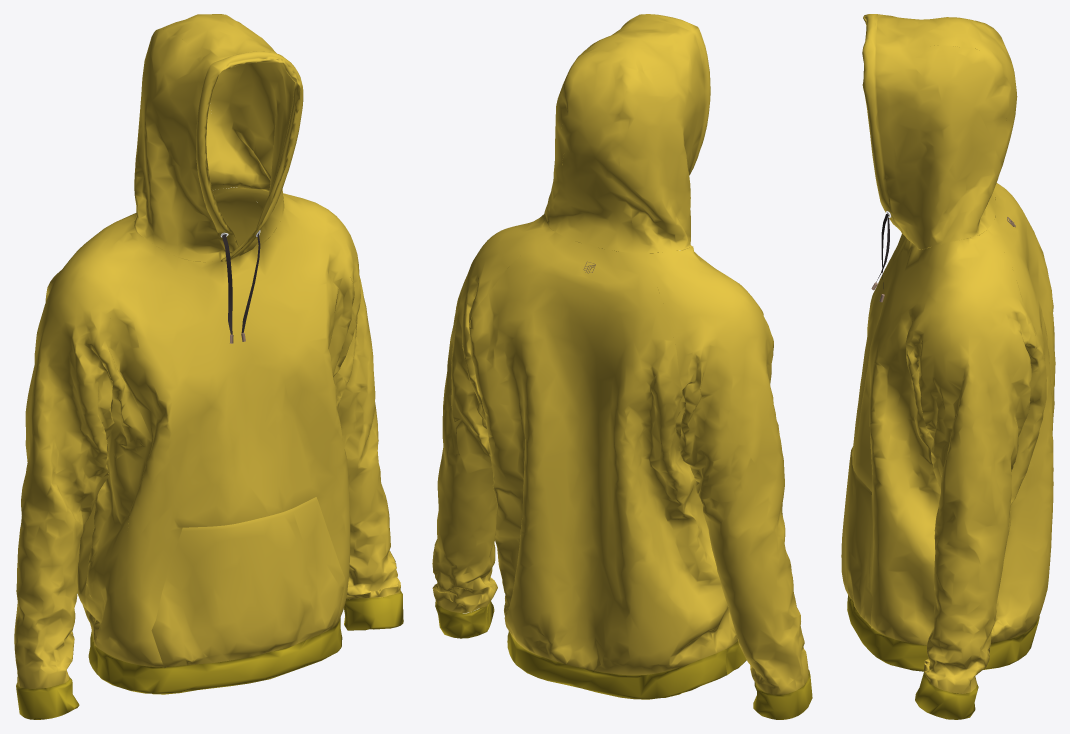
File: sweat.glb
The picture shows the model from 3 angles, left to right: view 1: azimuth 30°, elevation 25°; view 2: azimuth 150°, elevation 25°; view 3: azimuth 270°, elevation 25°; orthographic projection. The views are drawn at different scales.
Visible parts, largest first — view 1: Object_4, Object_9, Object_10; view 2: Object_4, Object_9; view 3: Object_4, Object_9.
Boxes of the visible parts, bbox=[...] form: Object_4: bbox=[14, 14, 400, 688]; Object_9: bbox=[16, 591, 403, 719]; Object_10: bbox=[222, 233, 260, 334]; Object_4: bbox=[432, 14, 808, 694]; Object_9: bbox=[435, 600, 812, 719]; Object_4: bbox=[841, 14, 1055, 693]; Object_9: bbox=[847, 595, 1039, 719].
Bounding box in the file's own units: 424 × 700 × 219.
